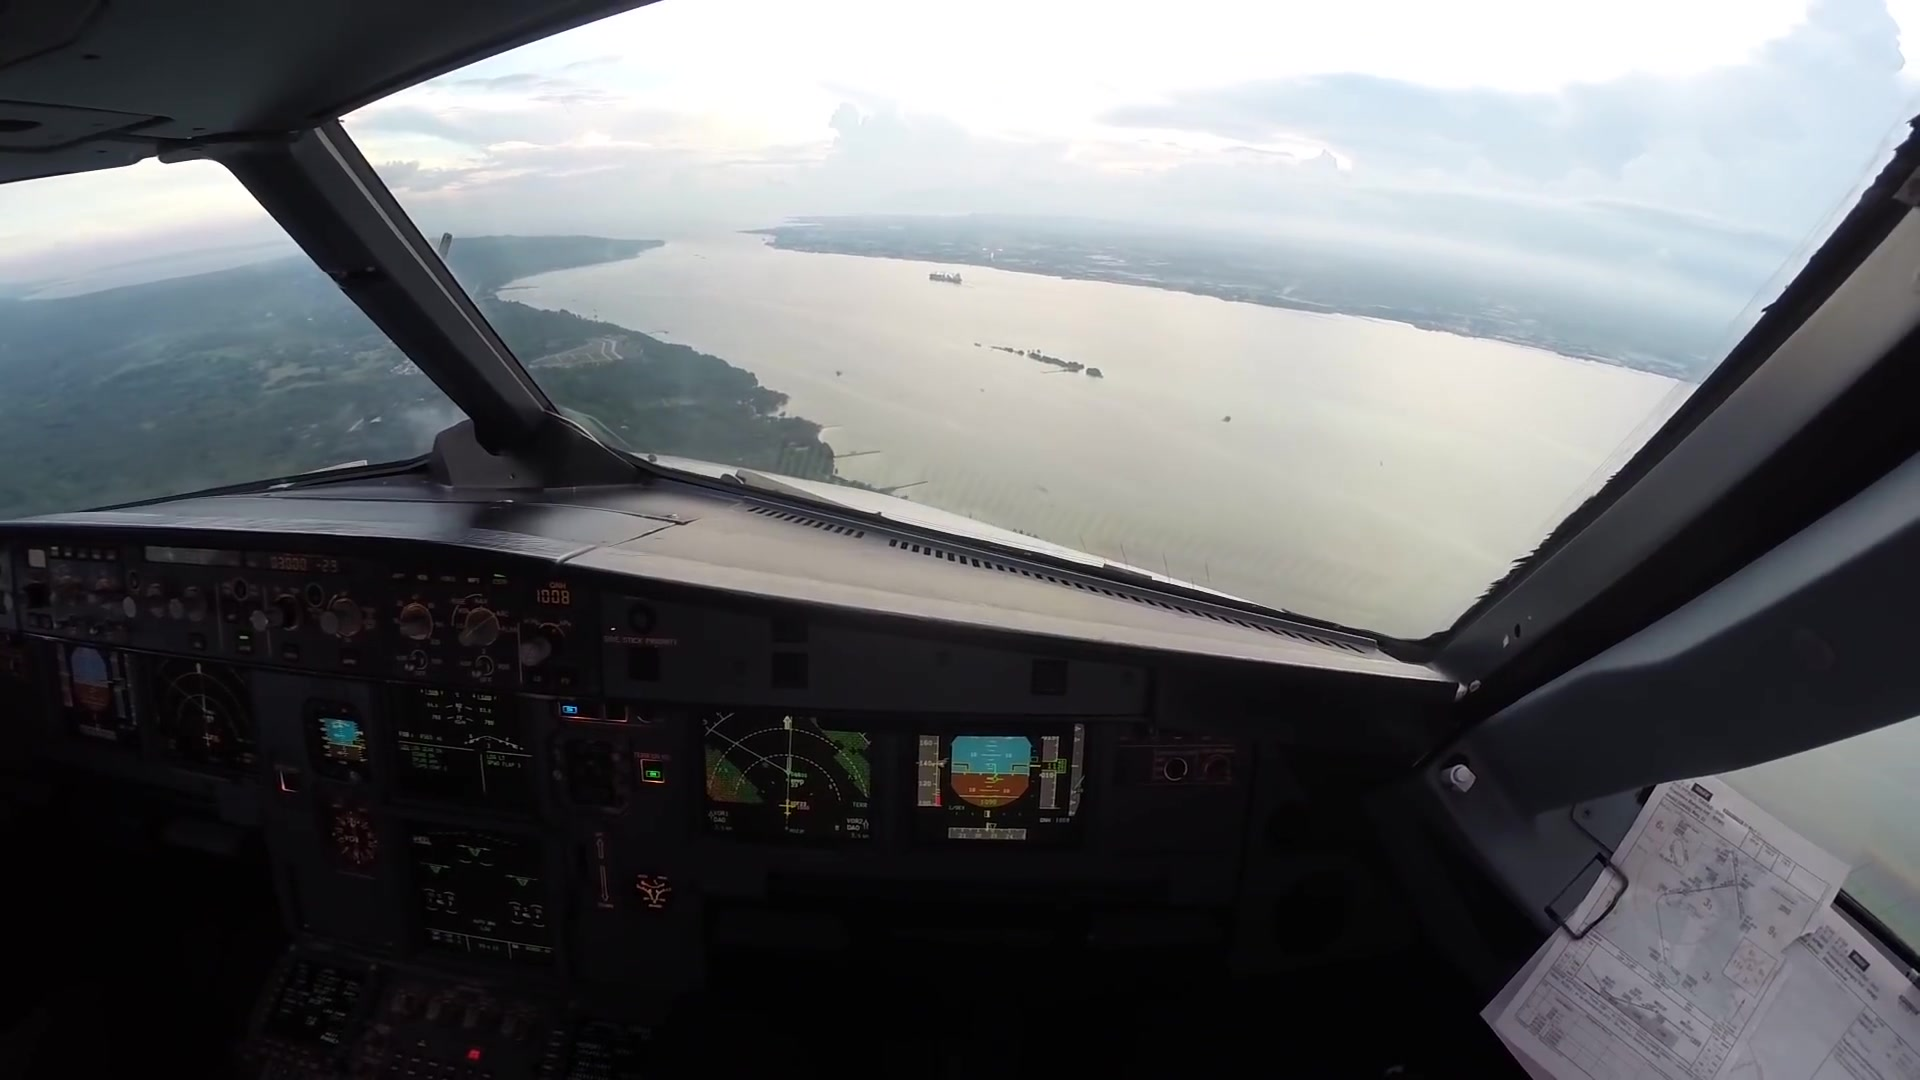runway: (980, 219, 1004, 257)
